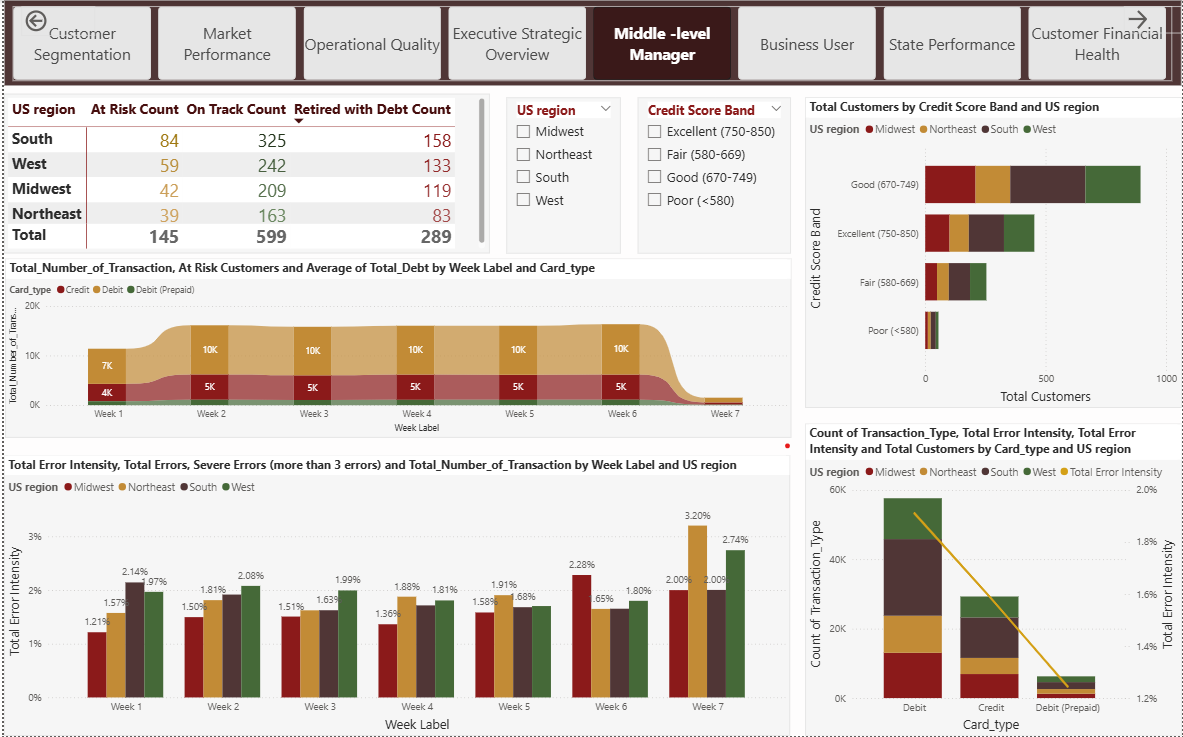

The dashboard page shown, as its layout file describes it:
{"tool":"powerbi","page":{"name":"Middle -level Manager","canvas":[1600,1000],"ordinal":4},"visuals":[{"type":"clusteredColumnChart","fields":{"Y":["Transactions.Total Error Intensity"],"Series":["Transactions.US region"],"Category":["Transactions.Week Label"]},"box":[0,618.3,1068.3,381.7],"z":0},{"type":"slicer","fields":{"Values":["Transactions.US region"]},"box":[683.3,131.7,155,211.7],"z":1000},{"type":"lineStackedColumnComboChart","fields":{"Category":["Cards.Card_type"],"Series":["Transactions.US region"],"Y":["CountNonNull(Transactions.Transaction_Type)"],"Y2":["Transactions.Total Error Intensity"]},"box":[1088.3,575,511.7,425],"z":2000},{"type":"barChart","fields":{"Category":["Customers.Credit Score Band"],"Y":["Customers.Total Customers"],"Series":["Transactions.US region"]},"box":[1088.3,131.7,511.7,421.7],"z":3000},{"type":"pivotTable","fields":{"Rows":["Transactions.US region"],"Values":["Cards.At Risk Count","Cards.On Track Count","Cards.Retired with Debt Count"]},"box":[0,126.7,660,216.7],"z":4000},{"type":"textbox","box":[0,0,1600,116.7],"z":5000},{"type":"pageNavigator","box":[11.7,8.3,1575,101.7],"z":6000},{"type":"actionButton","box":[1521.7,8.3,78.3,36.7],"z":7000},{"type":"actionButton","box":[23.3,8.3,100,40],"z":8000},{"type":"ribbonChart","fields":{"Category":["Transactions.Week Label"],"Y":["Transactions.Total_Number_of_Transaction"],"Series":["Cards.Card_type"]},"box":[1.7,351.7,1068.3,243.3],"z":9000},{"type":"slicer","fields":{"Values":["Customers.Credit Score Band"]},"box":[861.7,131.7,208.3,211.7],"z":10000}]}

Visuals, with their boxes in screenshot pixels (x1, y1, x2, y2), scaled from the page's 1600x1000 canvas onto the 1183x737 screenshot:
clusteredColumnChart - Transactions.Total Error Intensity x Transactions.US region: <box>0,456,790,736</box>
slicer - Transactions.US region: <box>505,97,620,253</box>
lineStackedColumnComboChart - Cards.Card_type x Transactions.US region: <box>805,424,1182,736</box>
barChart - Customers.Credit Score Band x Customers.Total Customers: <box>805,97,1182,408</box>
pivotTable - Transactions.US region x Cards.At Risk Count: <box>0,93,488,253</box>
textbox: <box>0,0,1182,86</box>
pageNavigator: <box>9,6,1173,81</box>
actionButton: <box>1125,6,1182,33</box>
actionButton: <box>17,6,91,36</box>
ribbonChart - Transactions.Week Label x Transactions.Total_Number_of_Transaction: <box>1,259,791,439</box>
slicer - Customers.Credit Score Band: <box>637,97,791,253</box>
